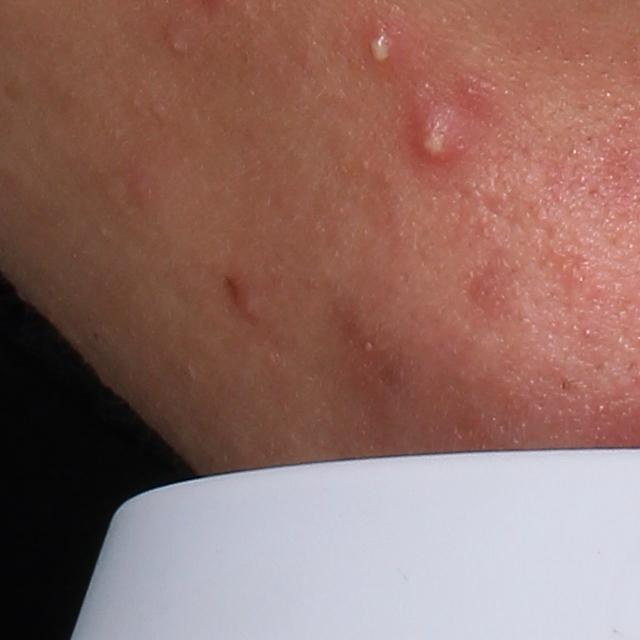comedo: (161, 29, 194, 60)
papule: (218, 276, 267, 330)
pustule: (399, 93, 473, 171), (356, 21, 403, 73)
